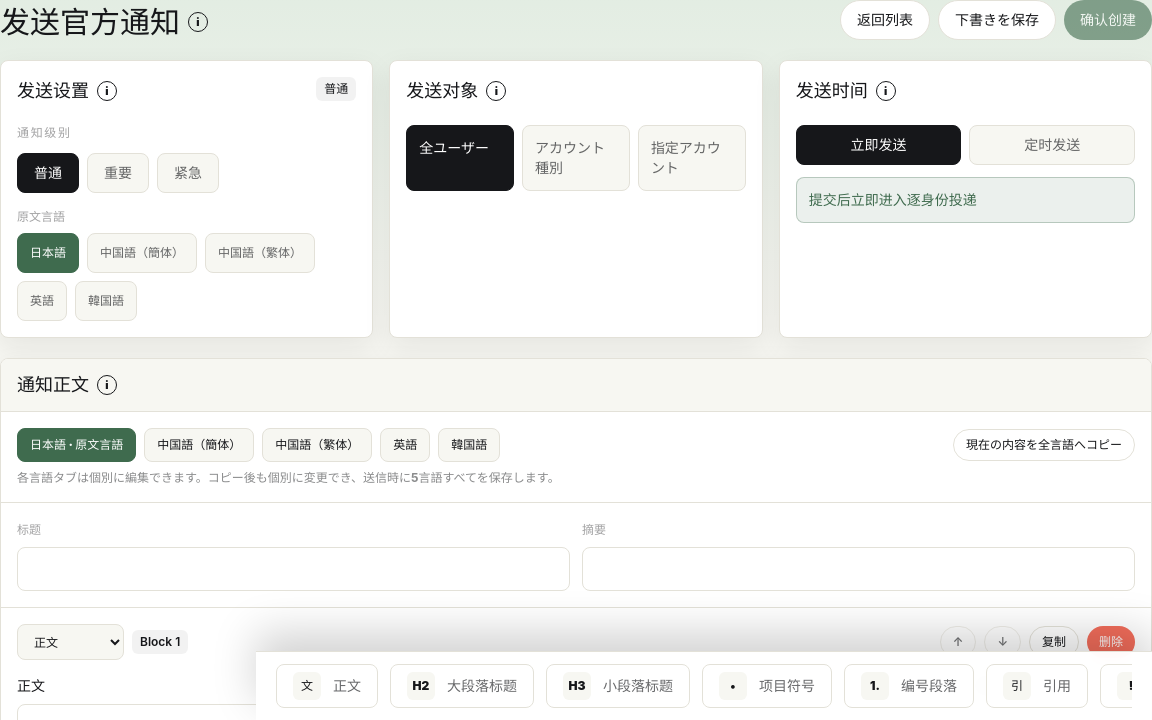
Test: official notice formal API interactions › uses localized quick buttons for source language and identity types
Click the radio button named "audience": click(576, 158) 522,125 -> 630,191
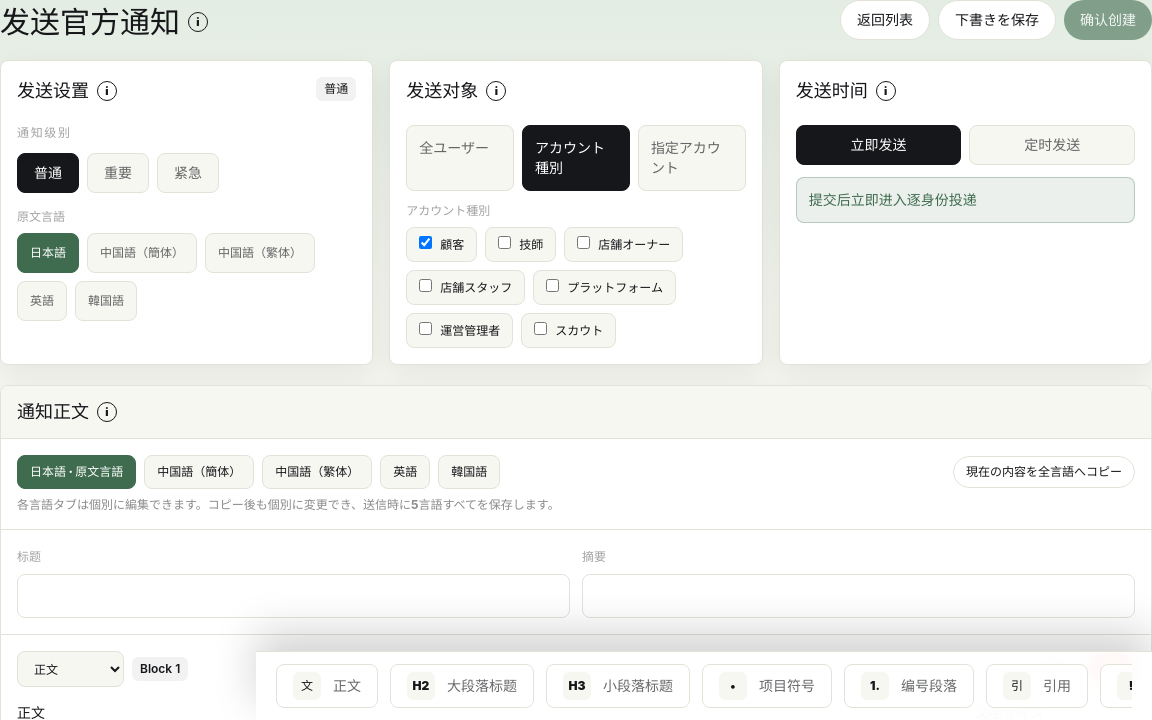
Now the text "顧客" is shown, box 406,227 -> 477,262
Now the text "技師" is shown, box 485,227 -> 556,262
Now the text "店舗オーナー" is shown, box 564,227 -> 683,262
